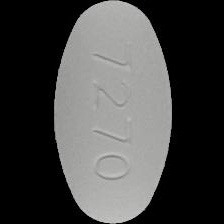42291-669: (0, 0, 224, 224)
